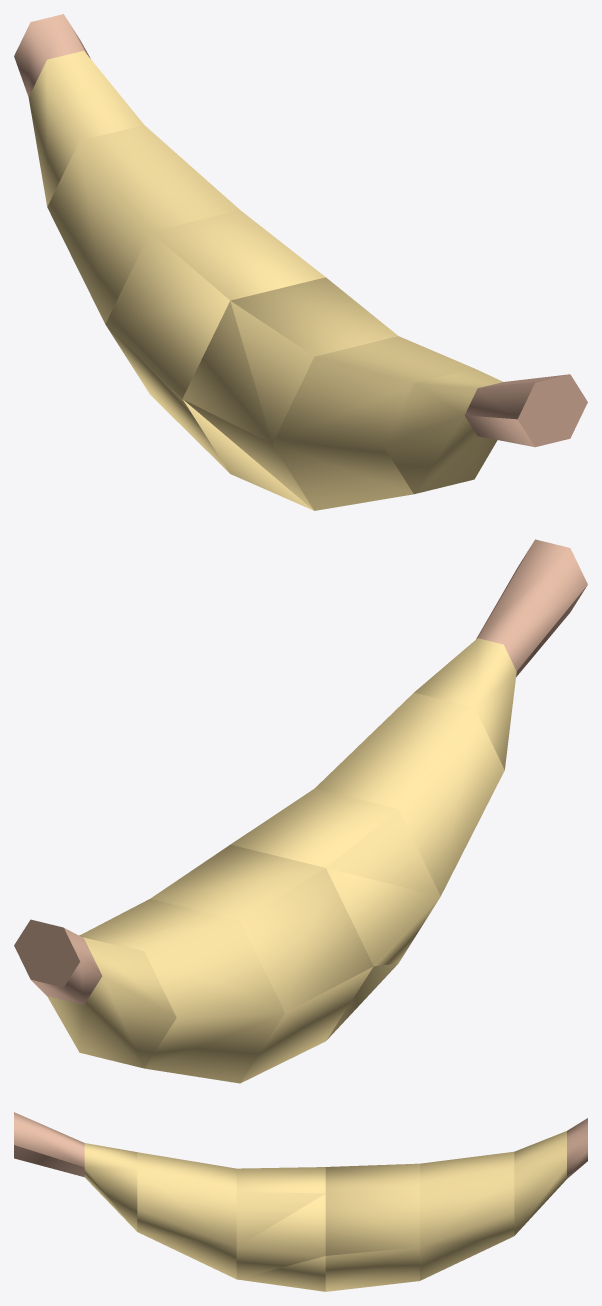
File: BananaHalf.fbx
3 renders of one model, top to bottom at view 1: azimuth 30°, elevation 25°; view 2: azimuth 150°, elevation 25°; view 3: azimuth 270°, elevation 25°, orthographic. The views are drawn at different scales.
Visible parts, largest first — view 1: banana.001, banana; view 2: banana, banana.001; view 3: banana.001, banana.
Part boxes in pixels (left/top/right/bottom): banana.001: left=182, top=277, right=587, bottom=510; banana: left=14, top=14, right=325, bottom=473; banana: left=14, top=844, right=373, bottom=1083; banana.001: left=230, top=539, right=587, bottom=1040; banana.001: left=14, top=1112, right=325, bottom=1291; banana: left=325, top=1118, right=587, bottom=1291.
Size of the model in its own units: 13.76 by 19.58 by 62.99.
